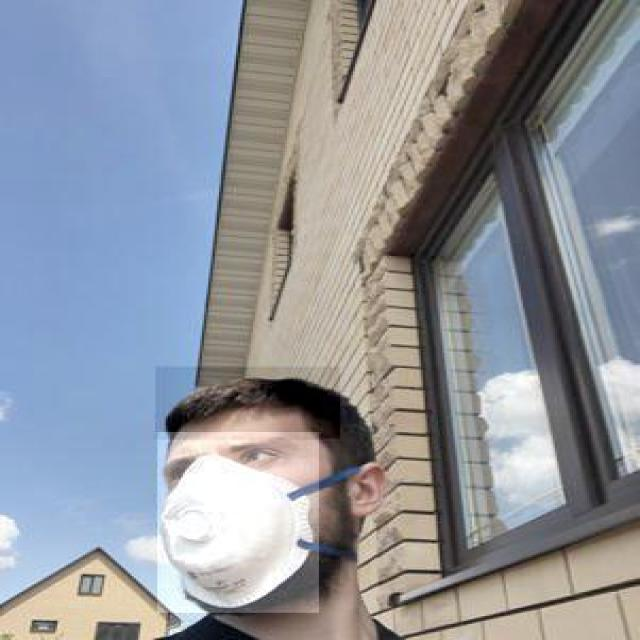face_mask: (157, 432, 321, 614)
head_nohelmet: (156, 366, 342, 440)
